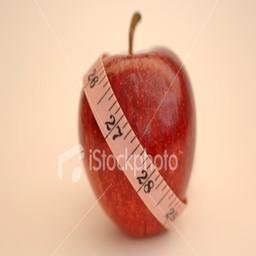apple: (80, 53, 191, 239)
